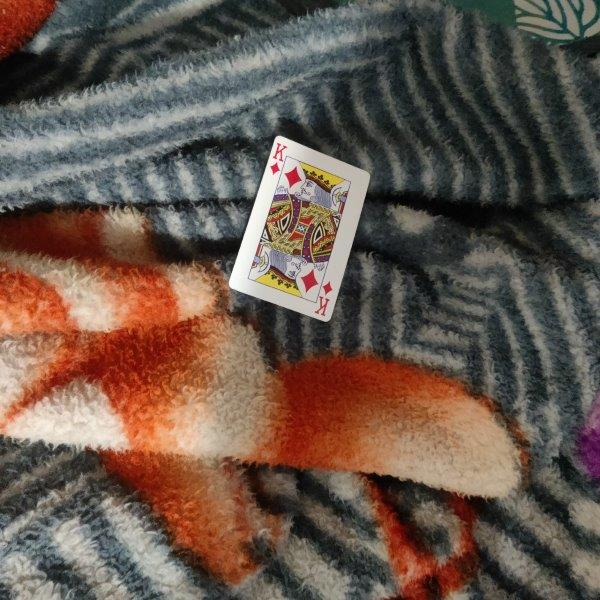King of Diamonds: (227, 135, 372, 324)
